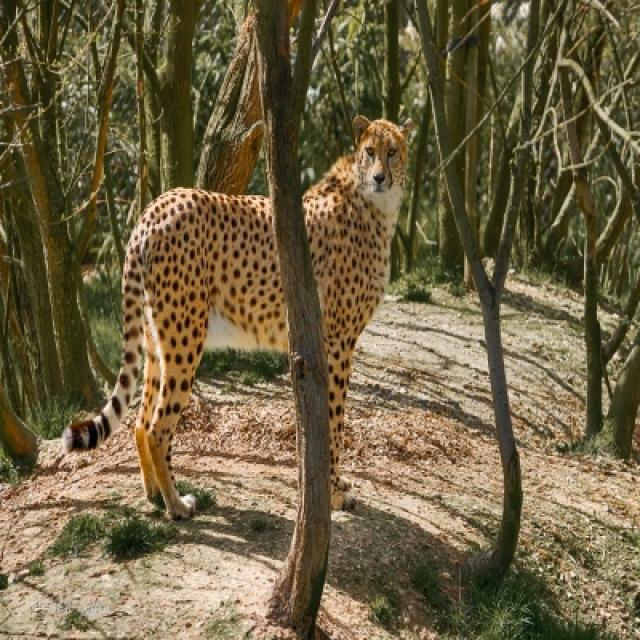Cheetah: (62, 187, 291, 523), (302, 122, 395, 470)
